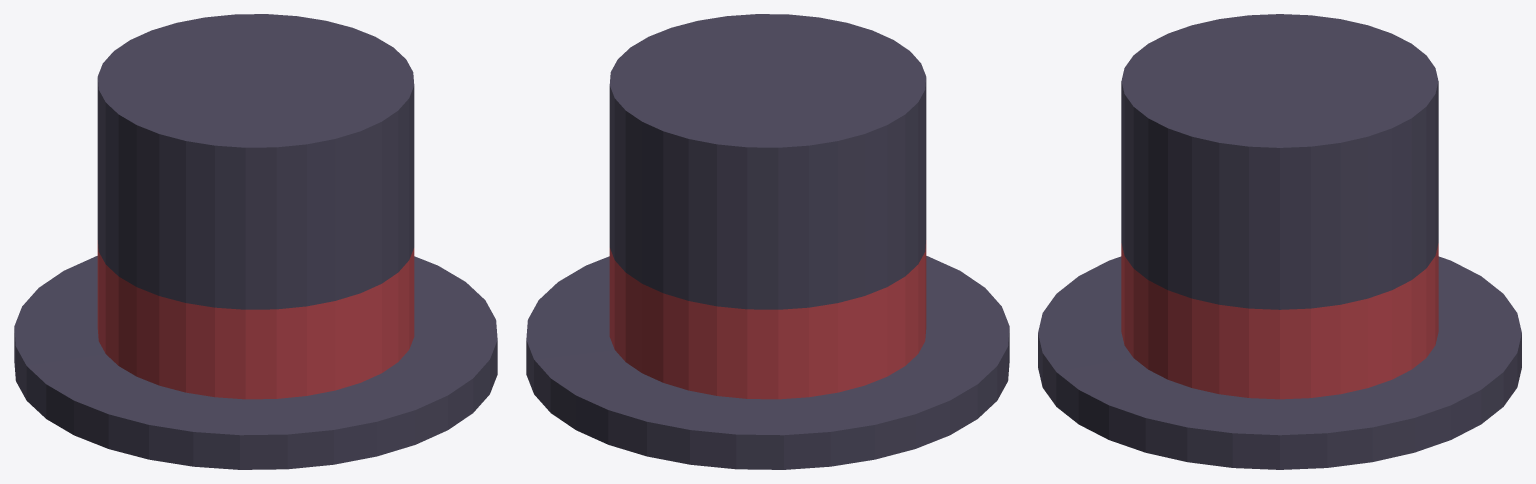
File: tophat.fbx
3 views of the same model, side by side, from view 1: azimuth 30°, elevation 25°; view 2: azimuth 150°, elevation 25°; view 3: azimuth 270°, elevation 25° (orthographic).
Parts seen in each view (by area): view 1: Cylinder; view 2: Cylinder; view 3: Cylinder.
Part boxes in pixels (x1=…): Cylinder: x1=14, y1=14, x2=497, y2=469; Cylinder: x1=526, y1=14, x2=1009, y2=469; Cylinder: x1=1038, y1=14, x2=1521, y2=469.
Size of the model in its own units: 36.93 by 24.19 by 36.93.
